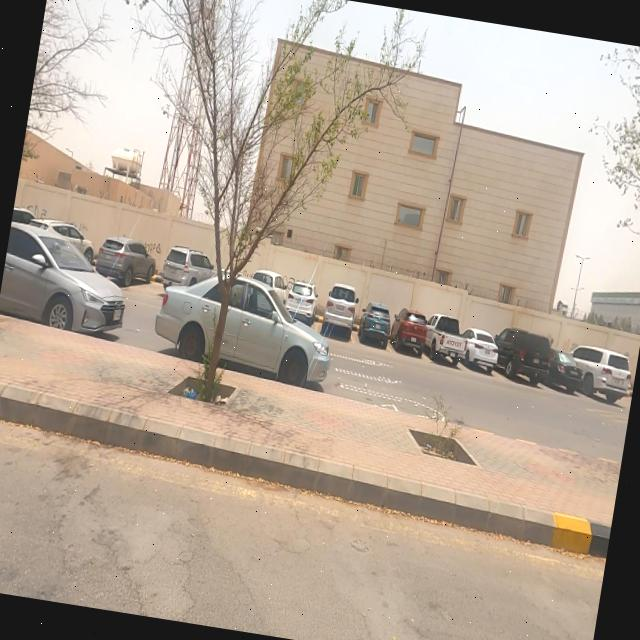Graffiti: (24, 200, 50, 218), (147, 240, 163, 259), (282, 274, 294, 288), (78, 220, 88, 233), (242, 271, 252, 277)
